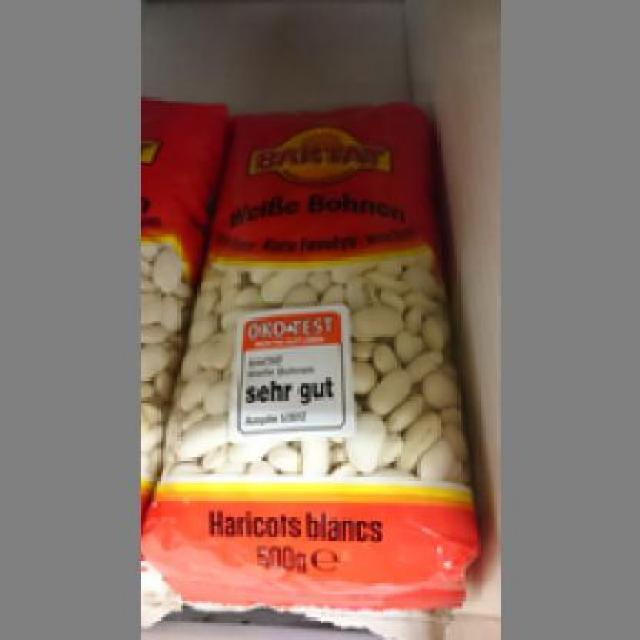Beans: (146, 88, 480, 614)
